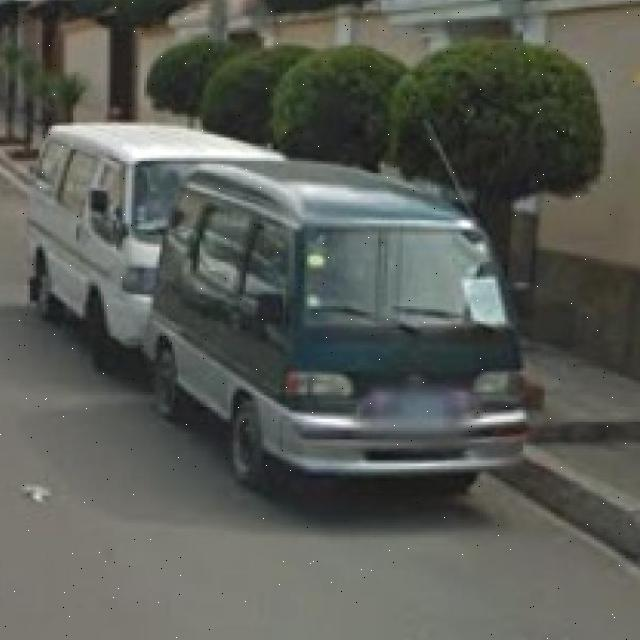car: (147, 195, 516, 495), (20, 117, 196, 344)
